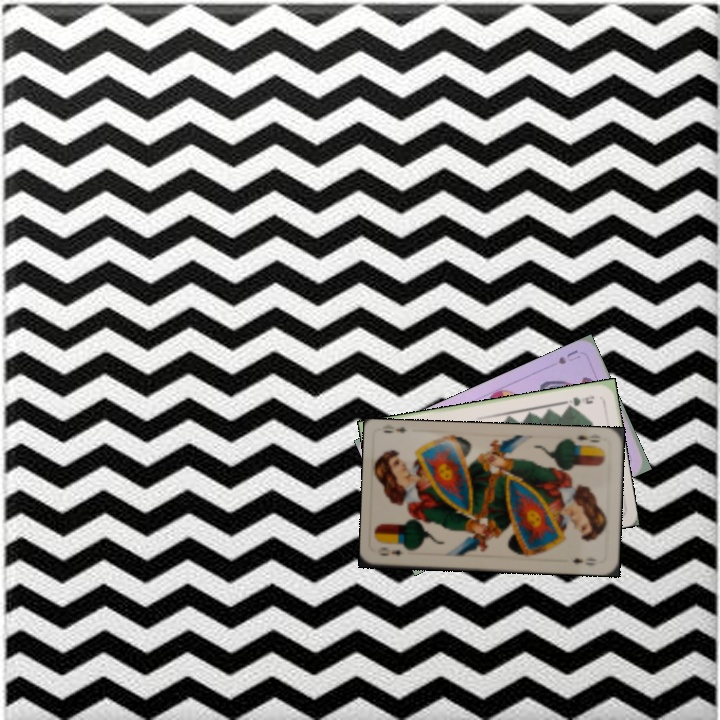EO: (567, 431, 605, 450), (374, 543, 406, 558)
G9: (561, 392, 597, 410)
SU: (554, 346, 583, 367)
